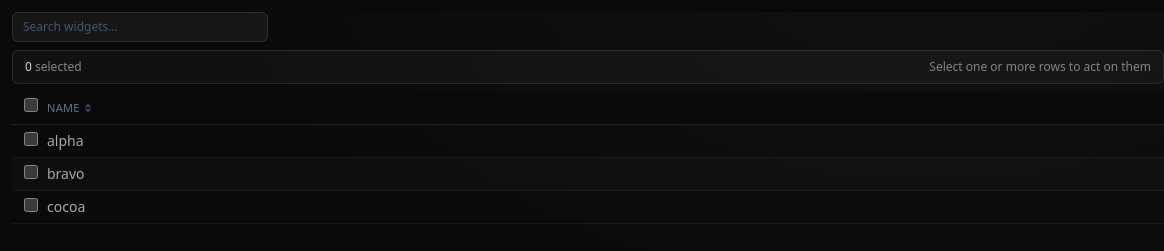
Test: DataTable — row actions in one bar › a `single` verb is disabled for two rows, and says why
The image size is (1164, 251).
Click the checkbox named "Select alpha": (31, 139) [24,132,38,146]
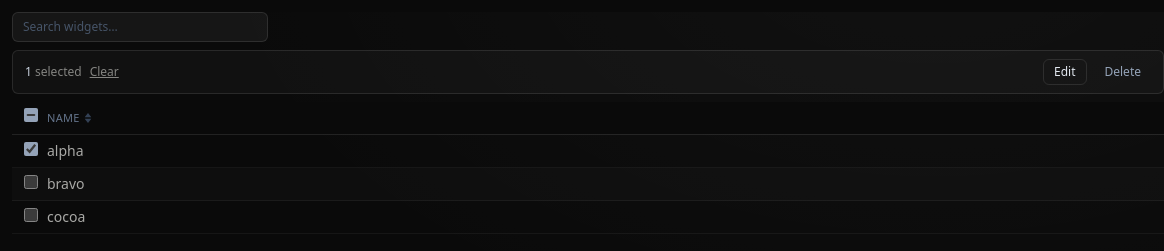
Expected: the button "Edit" is enabled, [1043,59,1086,85]
Click the checkbox named "Select cocoa": (31, 215) [24,208,38,222]
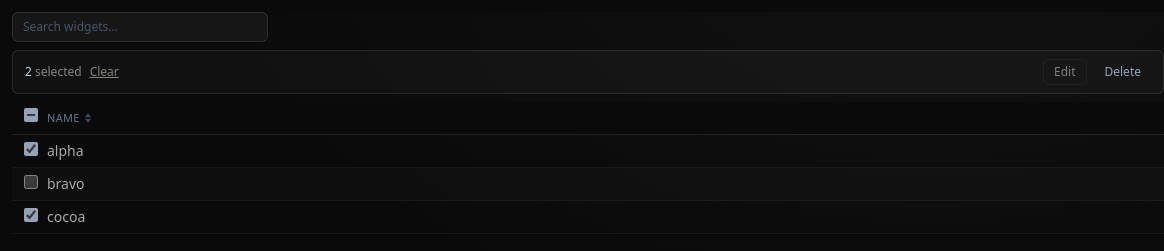
Expected: the button "Edit" is disabled, [1043,59,1086,85]
